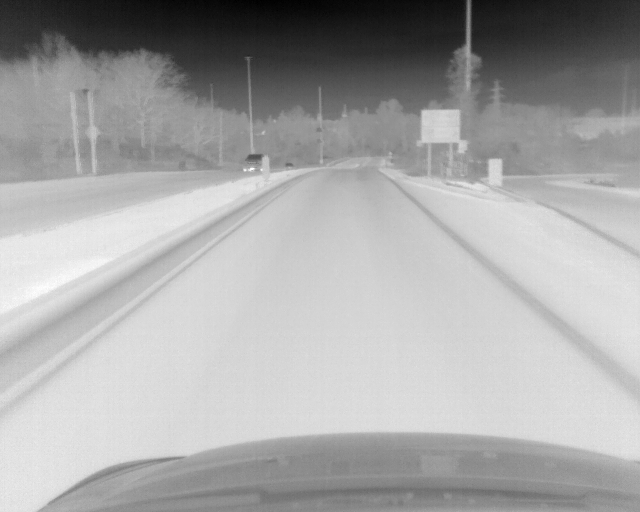car: (242, 152, 271, 173), (284, 161, 295, 170)
